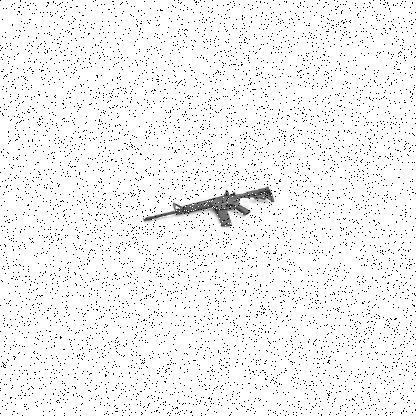gun: (140, 184, 276, 233)
